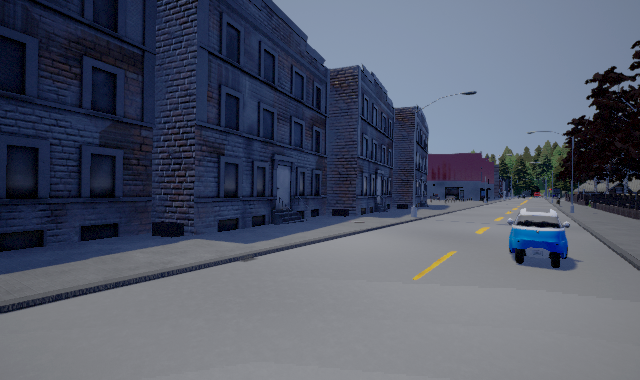vehicle: (507, 206, 568, 268)
